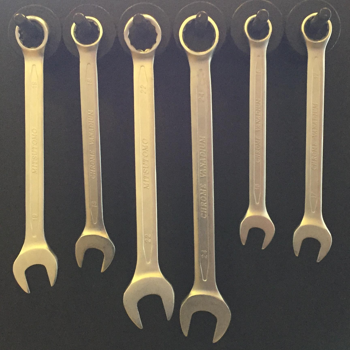bottom: (119, 269, 175, 330), (177, 290, 232, 344), (10, 243, 60, 295), (72, 228, 118, 275), (290, 215, 333, 262), (237, 209, 276, 251)
top: (175, 11, 220, 57), (120, 11, 164, 56), (13, 12, 51, 54), (68, 11, 105, 51), (298, 10, 334, 48), (240, 10, 275, 47)
